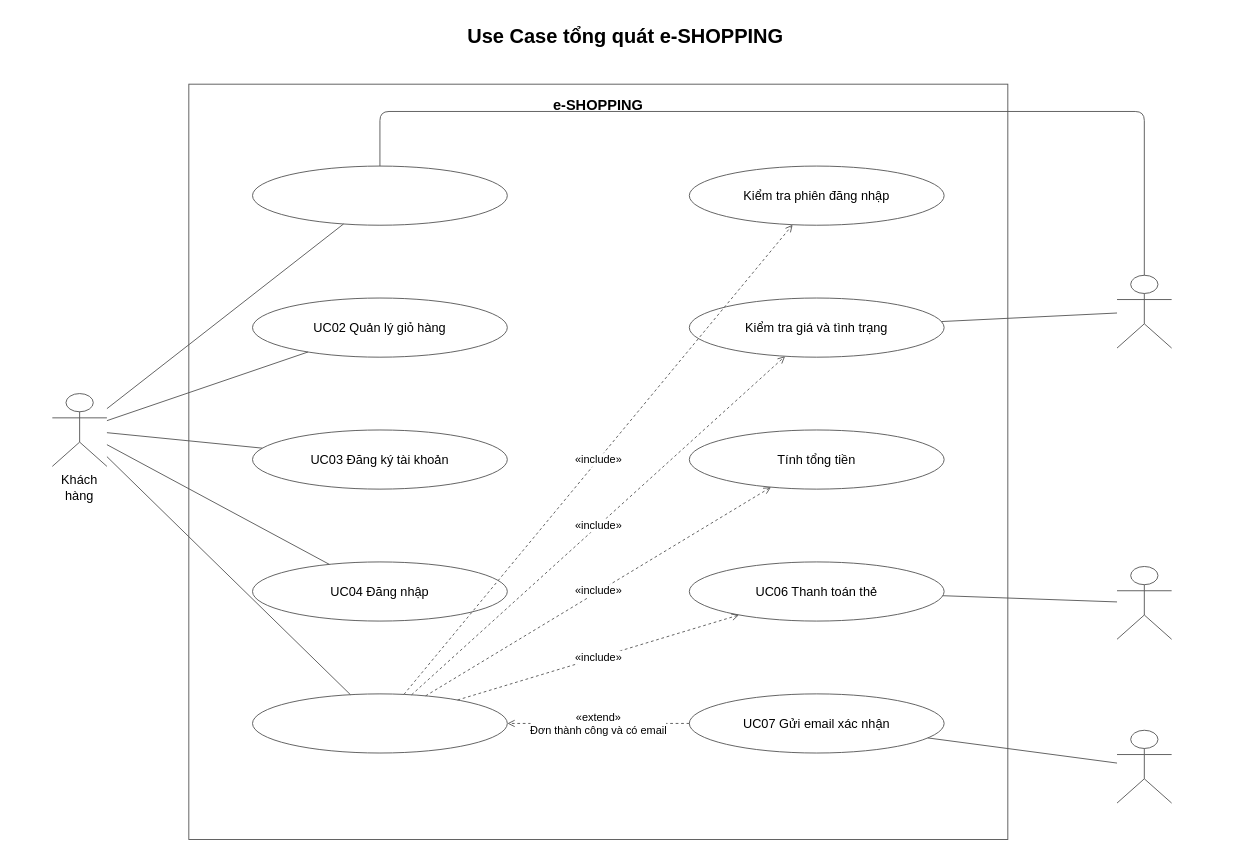
Some shapes in this 1250 by 855 pixel diagram are drawn without their labels. Each missing label, with the box of its shape:
Dịch vụ email: (1116, 729, 1172, 803)
Dịch vụ thanh toán trực tuyến: (1116, 566, 1172, 639)
Hệ thống quản lý sản phẩm: (1116, 274, 1172, 348)
UC01 Xem sản phẩm: (252, 165, 507, 225)
UC05 Đặt hàng: (252, 693, 507, 753)
